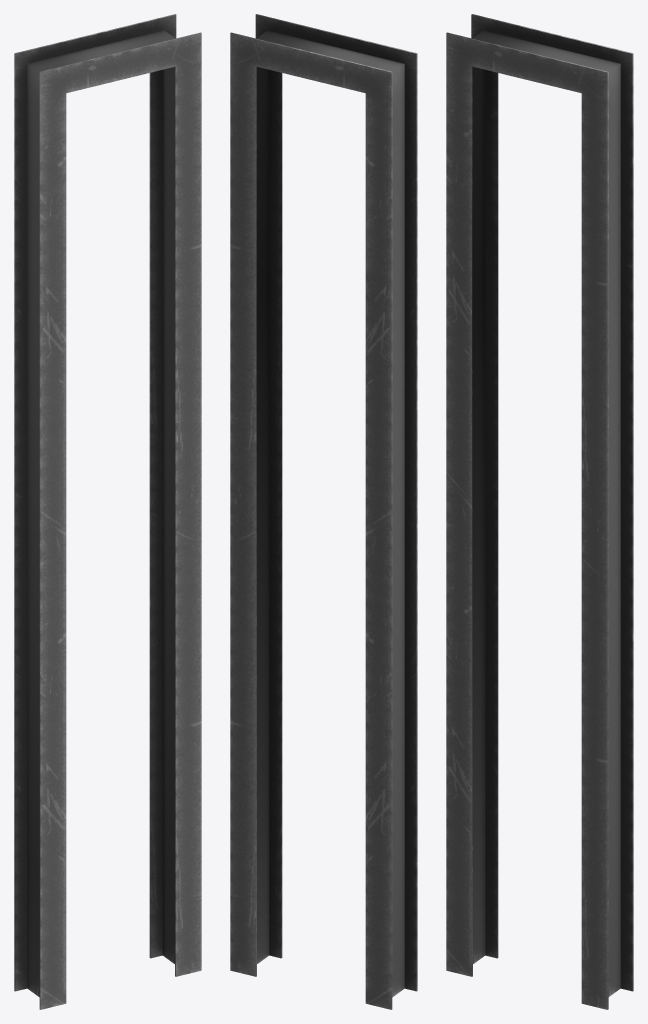
The model's file is SoporteRiel.FBX.
The picture shows the model from 3 angles, left to right: view 1: azimuth 30°, elevation 25°; view 2: azimuth 150°, elevation 25°; view 3: azimuth 330°, elevation 25°; orthographic projection.
Visible parts, largest first — view 1: Line005; view 2: Line005; view 3: Line005.
Boxes of the visible parts, x1,y1,x2,y2 form: Line005: (14,14,201,1009); Line005: (230,14,417,1009); Line005: (446,14,633,1009).
Bounding box in the file's own units: 49.83 × 277 × 14.
1 material, 1 textured.
